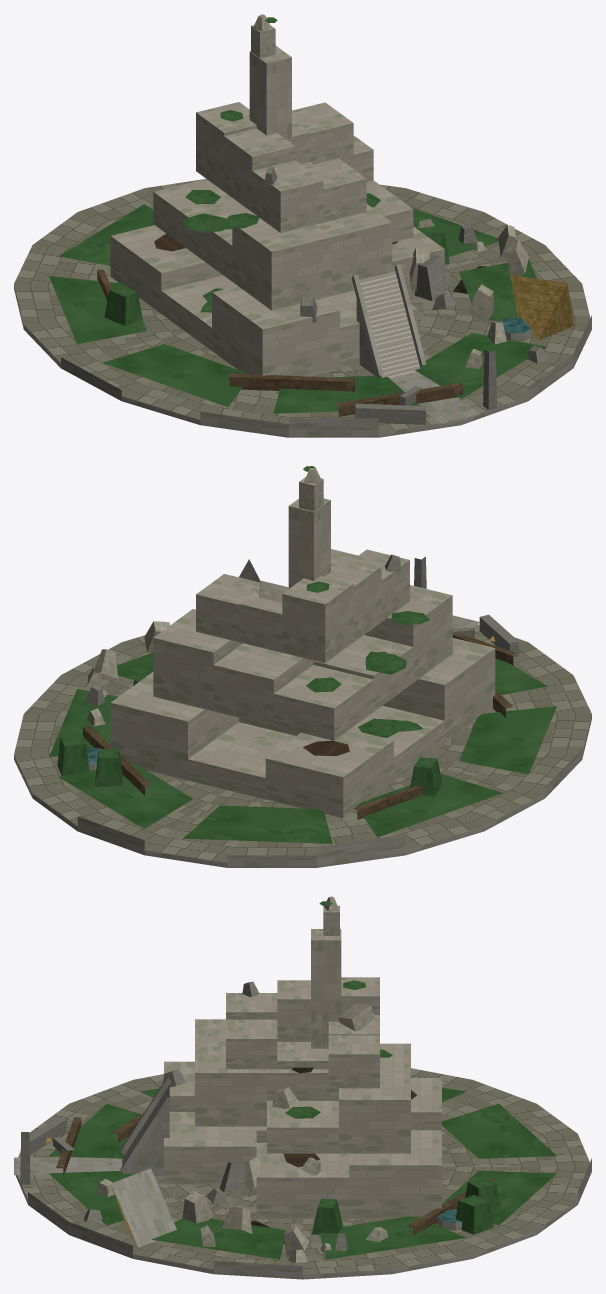
File: pyramid_large_destroyed_lod1.glb
The picture shows the model from 3 angles, top to bottom: view 1: azimuth 30°, elevation 25°; view 2: azimuth 150°, elevation 25°; view 3: azimuth 270°, elevation 25°; orthographic projection. The views are drawn at different scales.
Visible parts, largest first — view 1: pyramid_large_destroyed_lod1; view 2: pyramid_large_destroyed_lod1; view 3: pyramid_large_destroyed_lod1.
Part boxes in pixels (x1,y1,x2,y2): pyramid_large_destroyed_lod1: (14, 14, 591, 437); pyramid_large_destroyed_lod1: (14, 466, 591, 867); pyramid_large_destroyed_lod1: (14, 896, 591, 1279).
Size of the model in its own units: 1.68 by 0.971 by 1.9.
Materials: 1 (1 with a texture image).
